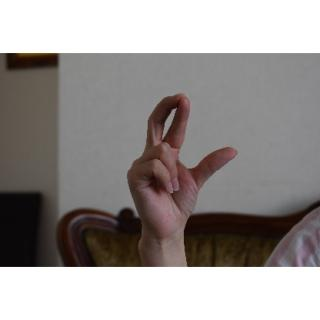DHELL: (122, 86, 240, 247)
